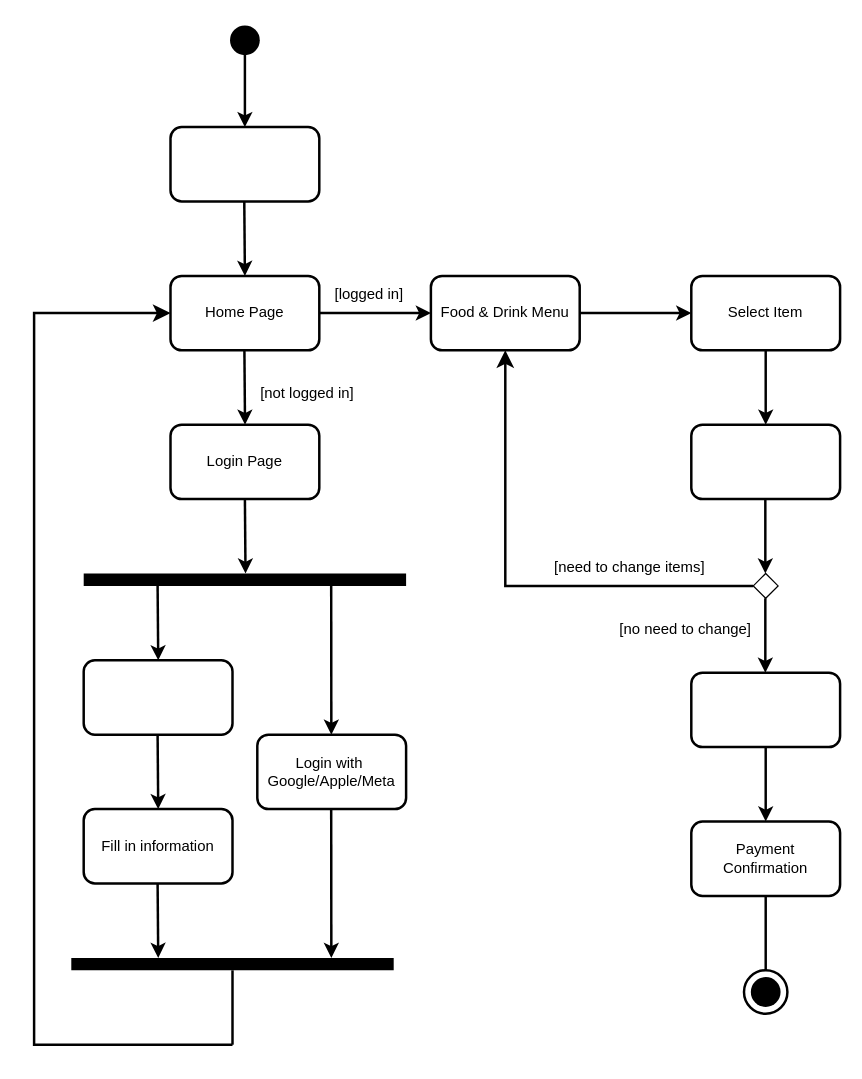
Some shapes in this 862 by 1079 pixel diagram are drawn without their labels. Each missing label, with the box of its shape:
Open App: (169, 125, 320, 202)
Proceed to Payment: (689, 671, 841, 748)
Signup Page: (82, 658, 233, 735)
View Cart: (689, 423, 841, 500)
